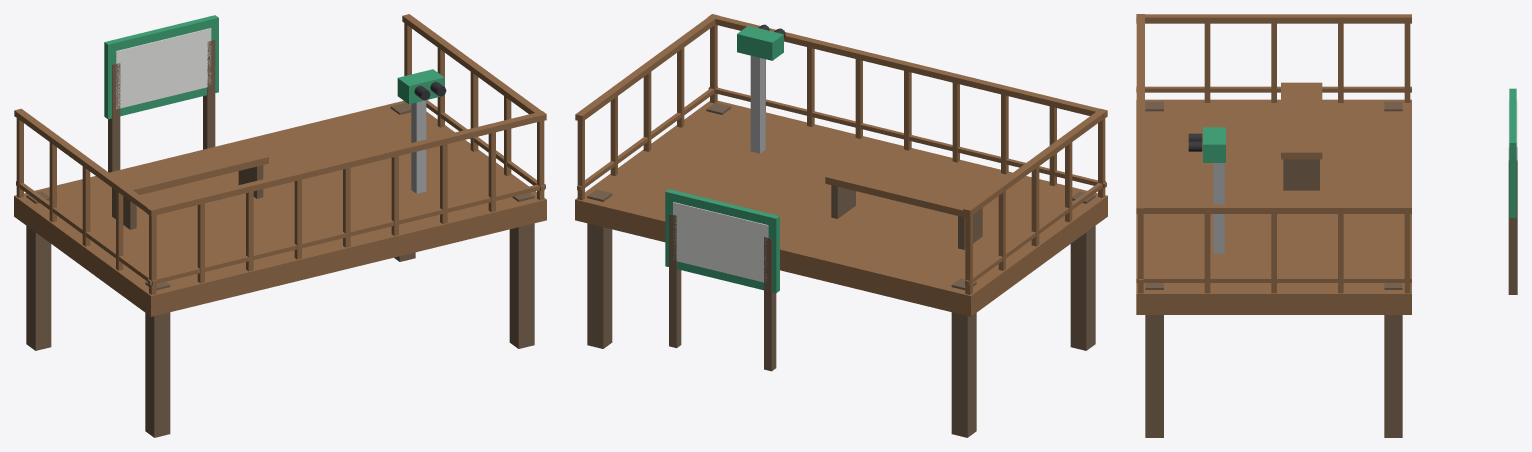
Rendered from viewpoint.glb.
The picture shows the model from 3 angles, left to right: view 1: azimuth 30°, elevation 25°; view 2: azimuth 150°, elevation 25°; view 3: azimuth 270°, elevation 25°; orthographic projection.
Parts seen in each view (by area): view 1: viewpoint; view 2: viewpoint; view 3: viewpoint.
Boxes of the visible parts, box(x1,y1,x2,y2) form: viewpoint: box(14, 14, 546, 437); viewpoint: box(575, 14, 1107, 437); viewpoint: box(1136, 14, 1517, 437).
Bounding box in the file's own units: 5 × 3.16 × 4.15.
